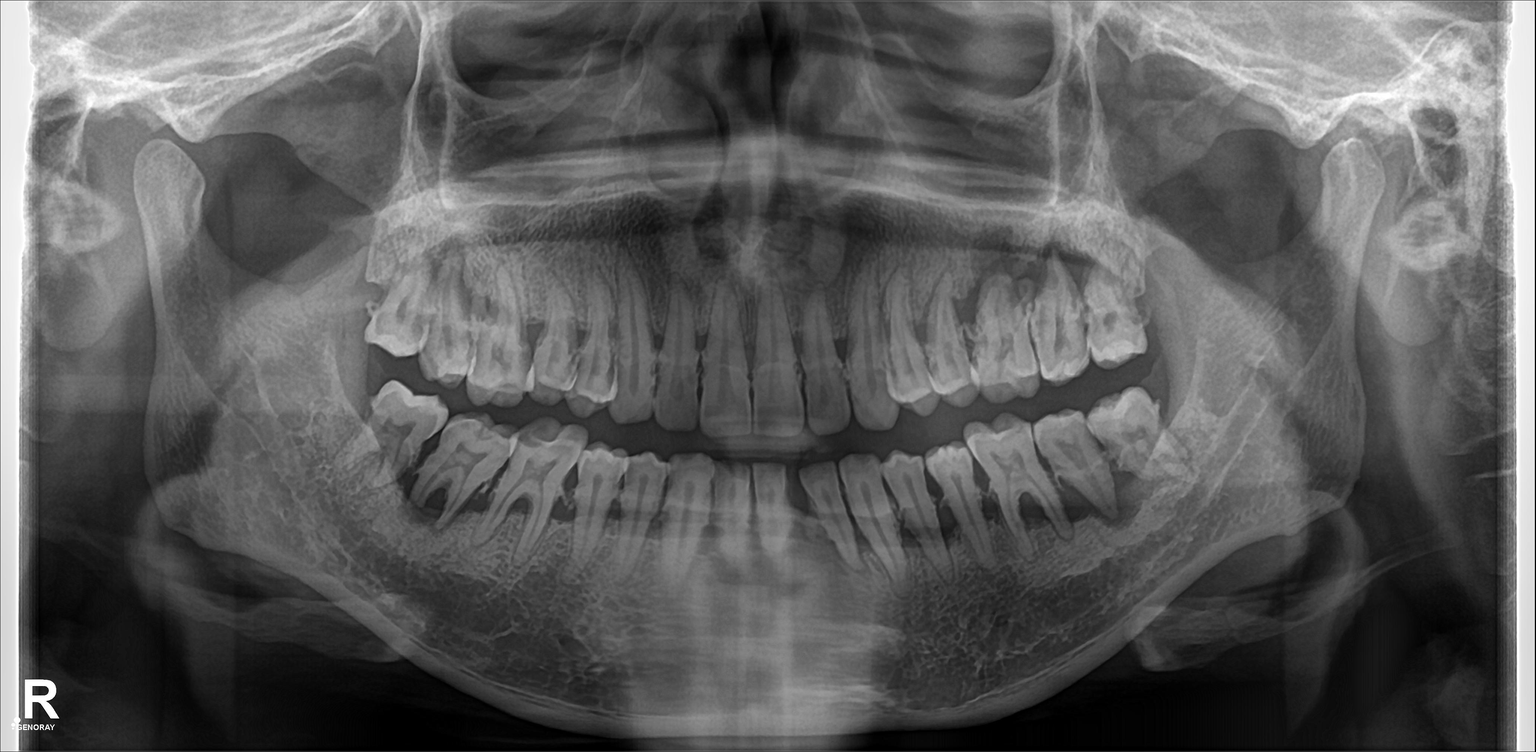Impacted Third Molar: (1097, 396, 1174, 477)
Periapical Lesion: (391, 458, 487, 532)
